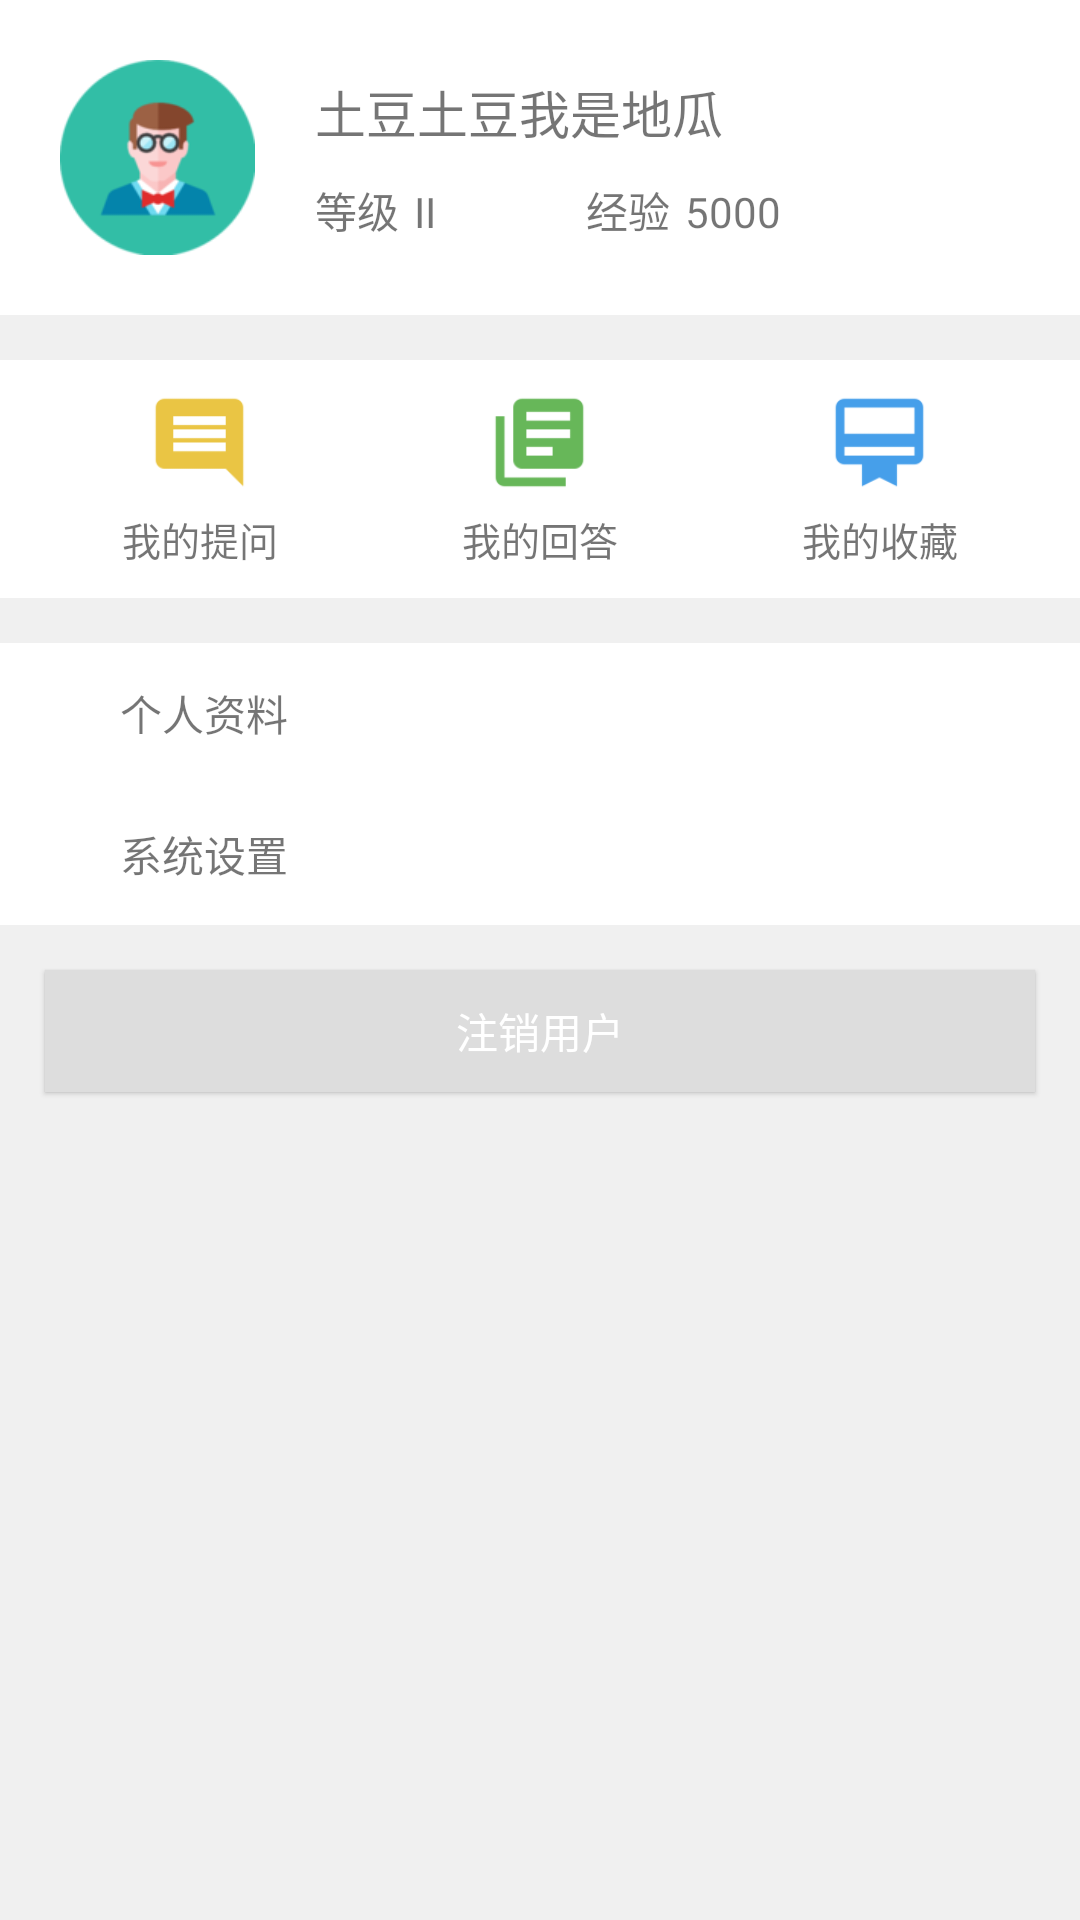

Icon click points for this 1080*1920 phone screenshot, format (x=x, y=y):
photo man: (x=157, y=157)
